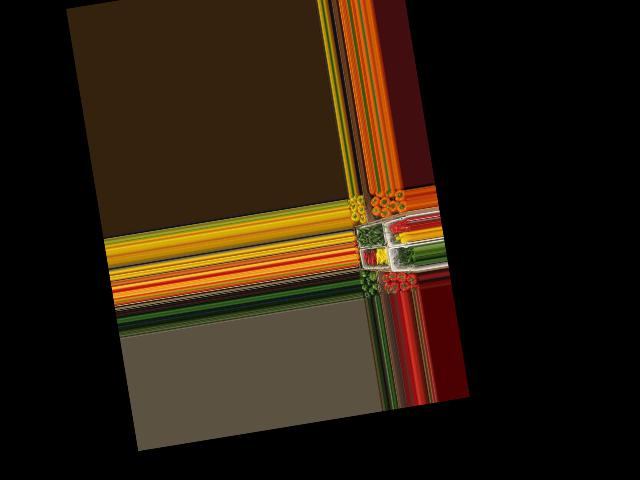bell_pepper: (368, 280, 380, 292)
